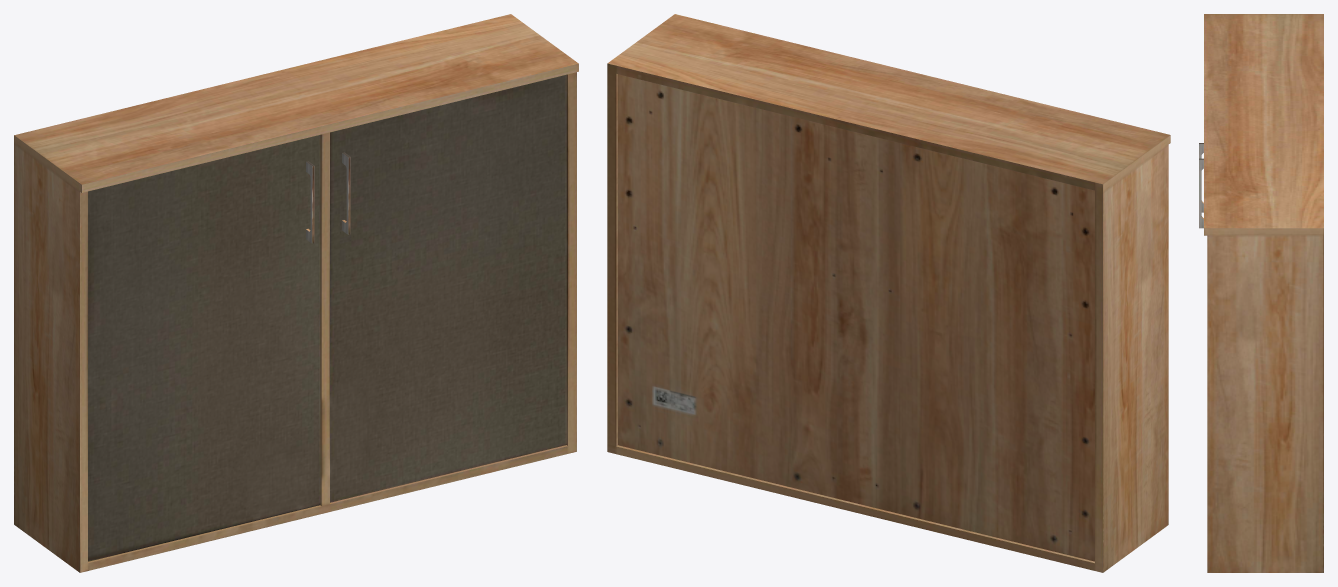
3 views of the same model, side by side, from view 1: azimuth 30°, elevation 25°; view 2: azimuth 150°, elevation 25°; view 3: azimuth 270°, elevation 25° (orthographic). The views are drawn at different scales.
Parts seen in each view (by area): view 1: Box004; view 2: Box004; view 3: Box004.
Part boxes in pixels (x1,y1,x2,y2): Box004: [14, 14, 578, 572]; Box004: [607, 14, 1170, 572]; Box004: [1199, 14, 1323, 572].
Size of the model in its own units: 1143 by 856 by 281.
